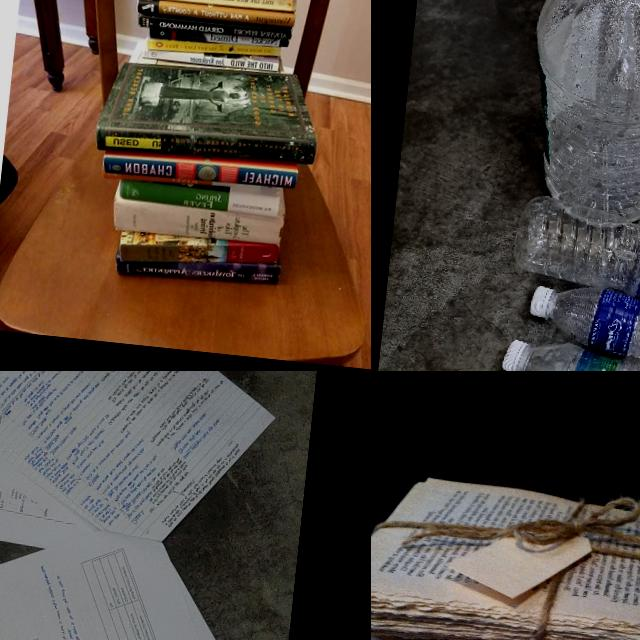garrafa plástica: (517, 0, 640, 234), (506, 194, 640, 321), (541, 281, 640, 371)
papel: (0, 371, 292, 640), (79, 0, 340, 295), (371, 460, 640, 640)
tampa plástica: (501, 338, 528, 371), (529, 284, 550, 318)
